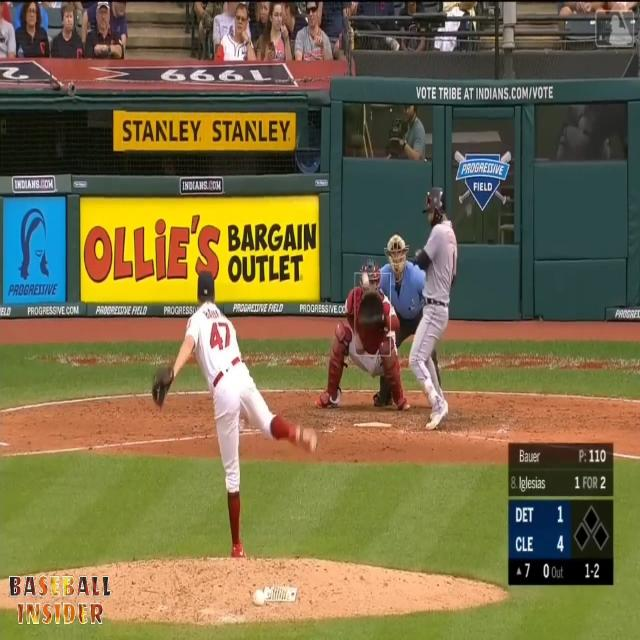baseball: (362, 273, 368, 288)
